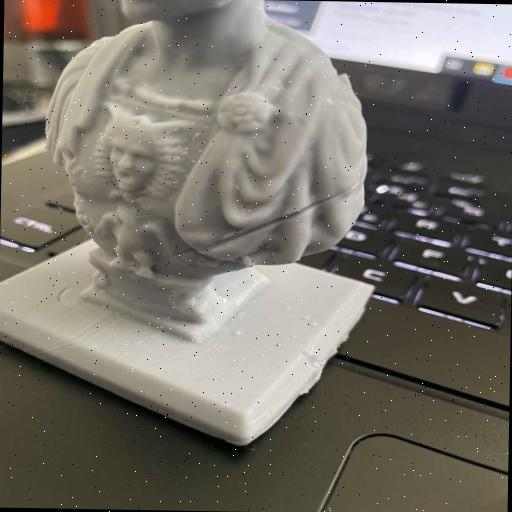cracks: (149, 170, 362, 268)
